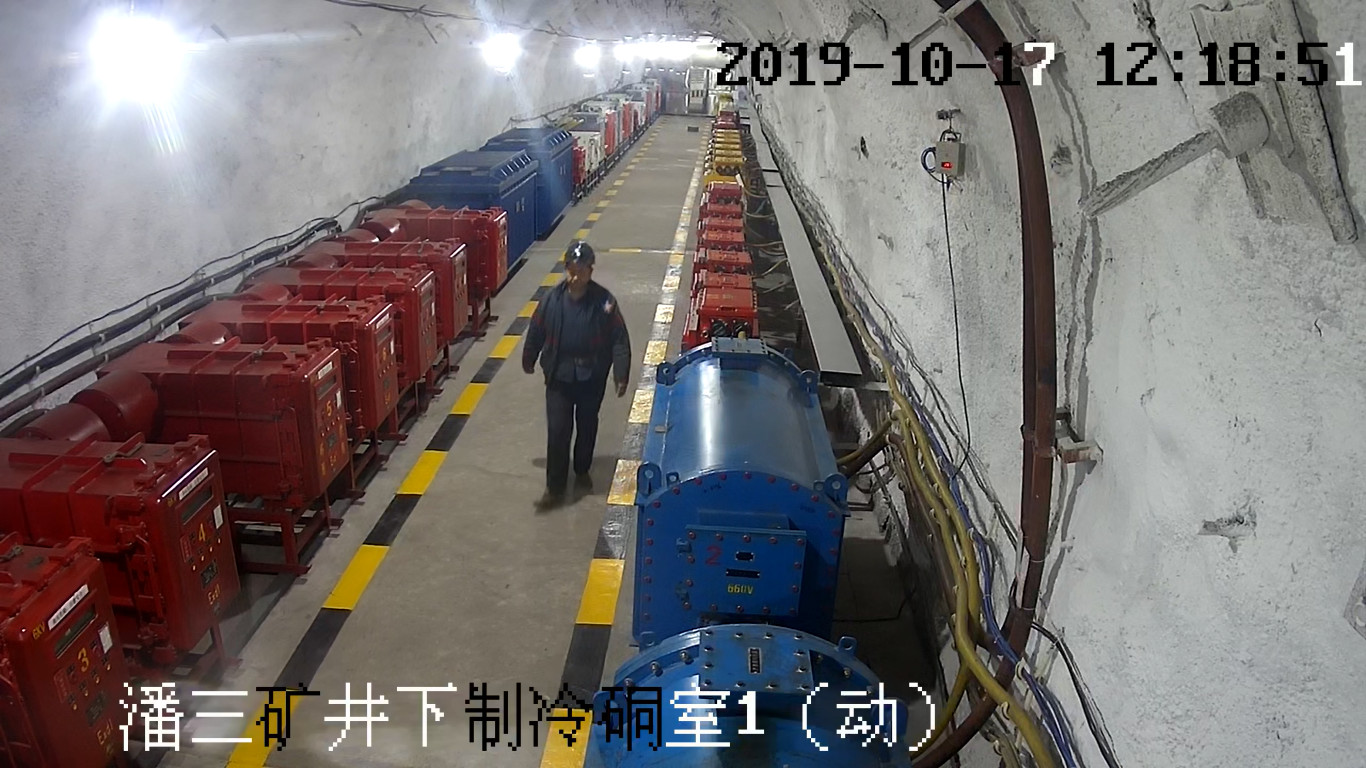helmet: (561, 240, 595, 265)
